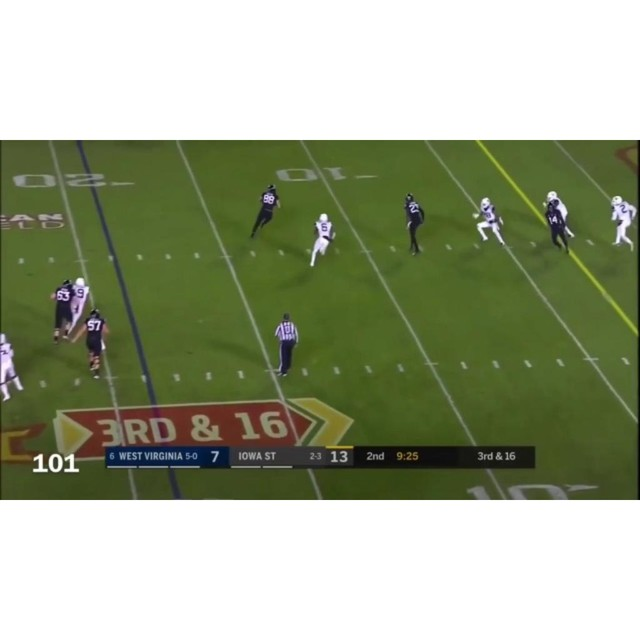american-football-player: (63, 278, 92, 345), (83, 308, 110, 378), (49, 279, 76, 345), (249, 183, 280, 240), (0, 334, 24, 402), (473, 197, 505, 246), (308, 212, 336, 267), (610, 195, 637, 250), (403, 194, 426, 255), (544, 203, 571, 253)
referee: (273, 313, 299, 378)
